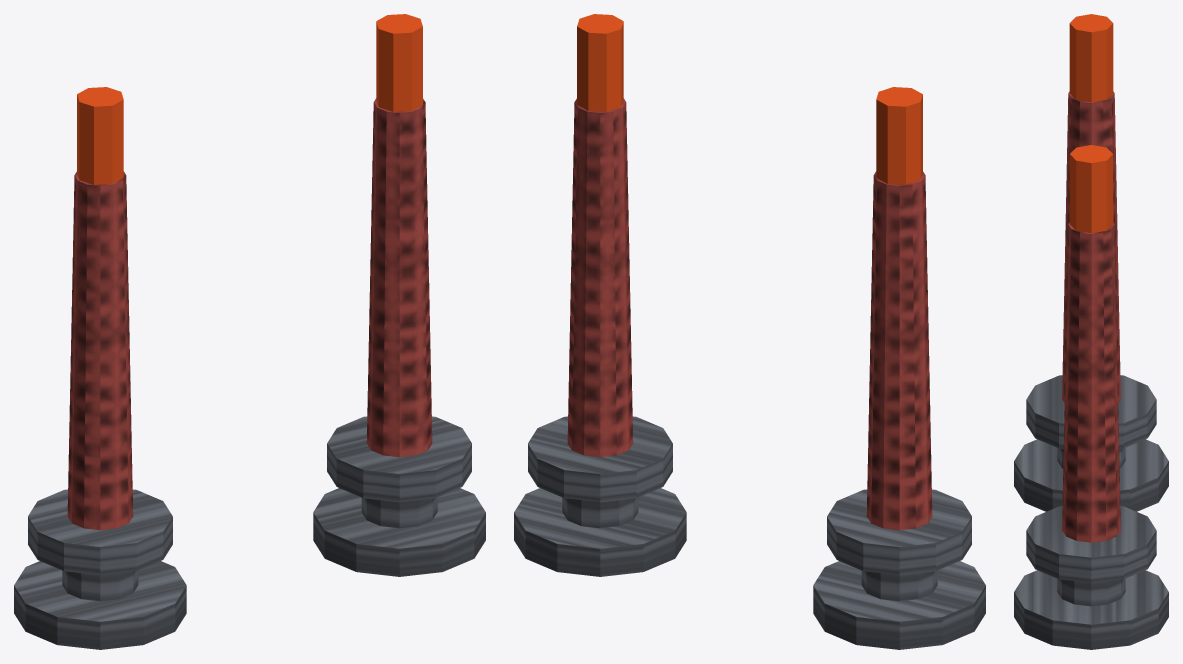
Rendered from candles.fbx.
3 views of the same model, side by side, from view 1: azimuth 30°, elevation 25°; view 2: azimuth 150°, elevation 25°; view 3: azimuth 270°, elevation 25° (orthographic). The views are drawn at different scales.
Parts seen in each view (by area): view 1: candles; view 2: candles; view 3: candles.
Part boxes in pixels (x1,y1,x2,y2): candles: (14,14,485,649); candles: (514,14,985,649); candles: (1014,14,1168,649).
Bounding box in the file's own units: 30 × 33 × 10.
